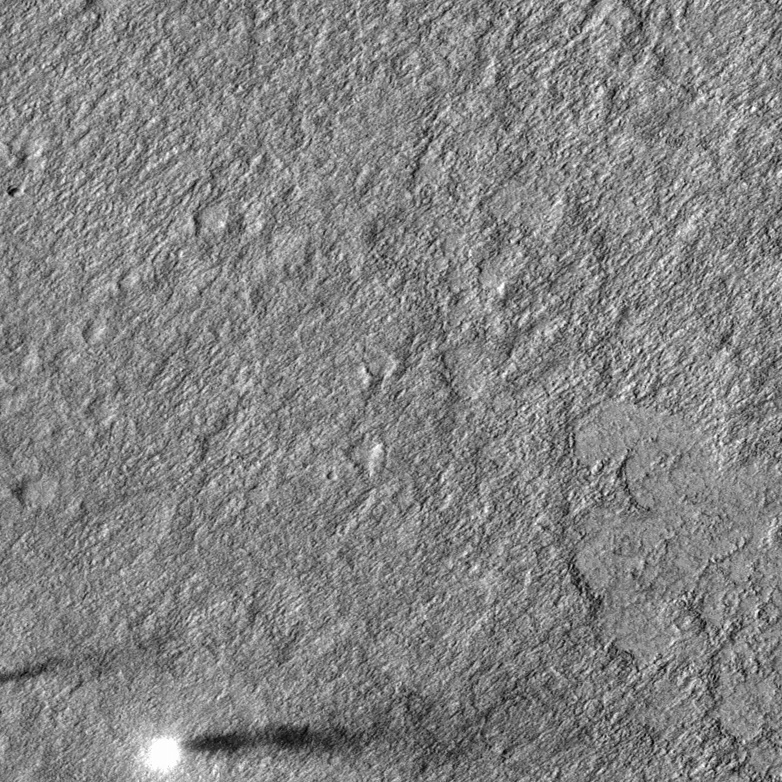dust_devil: (136, 717, 384, 779)
